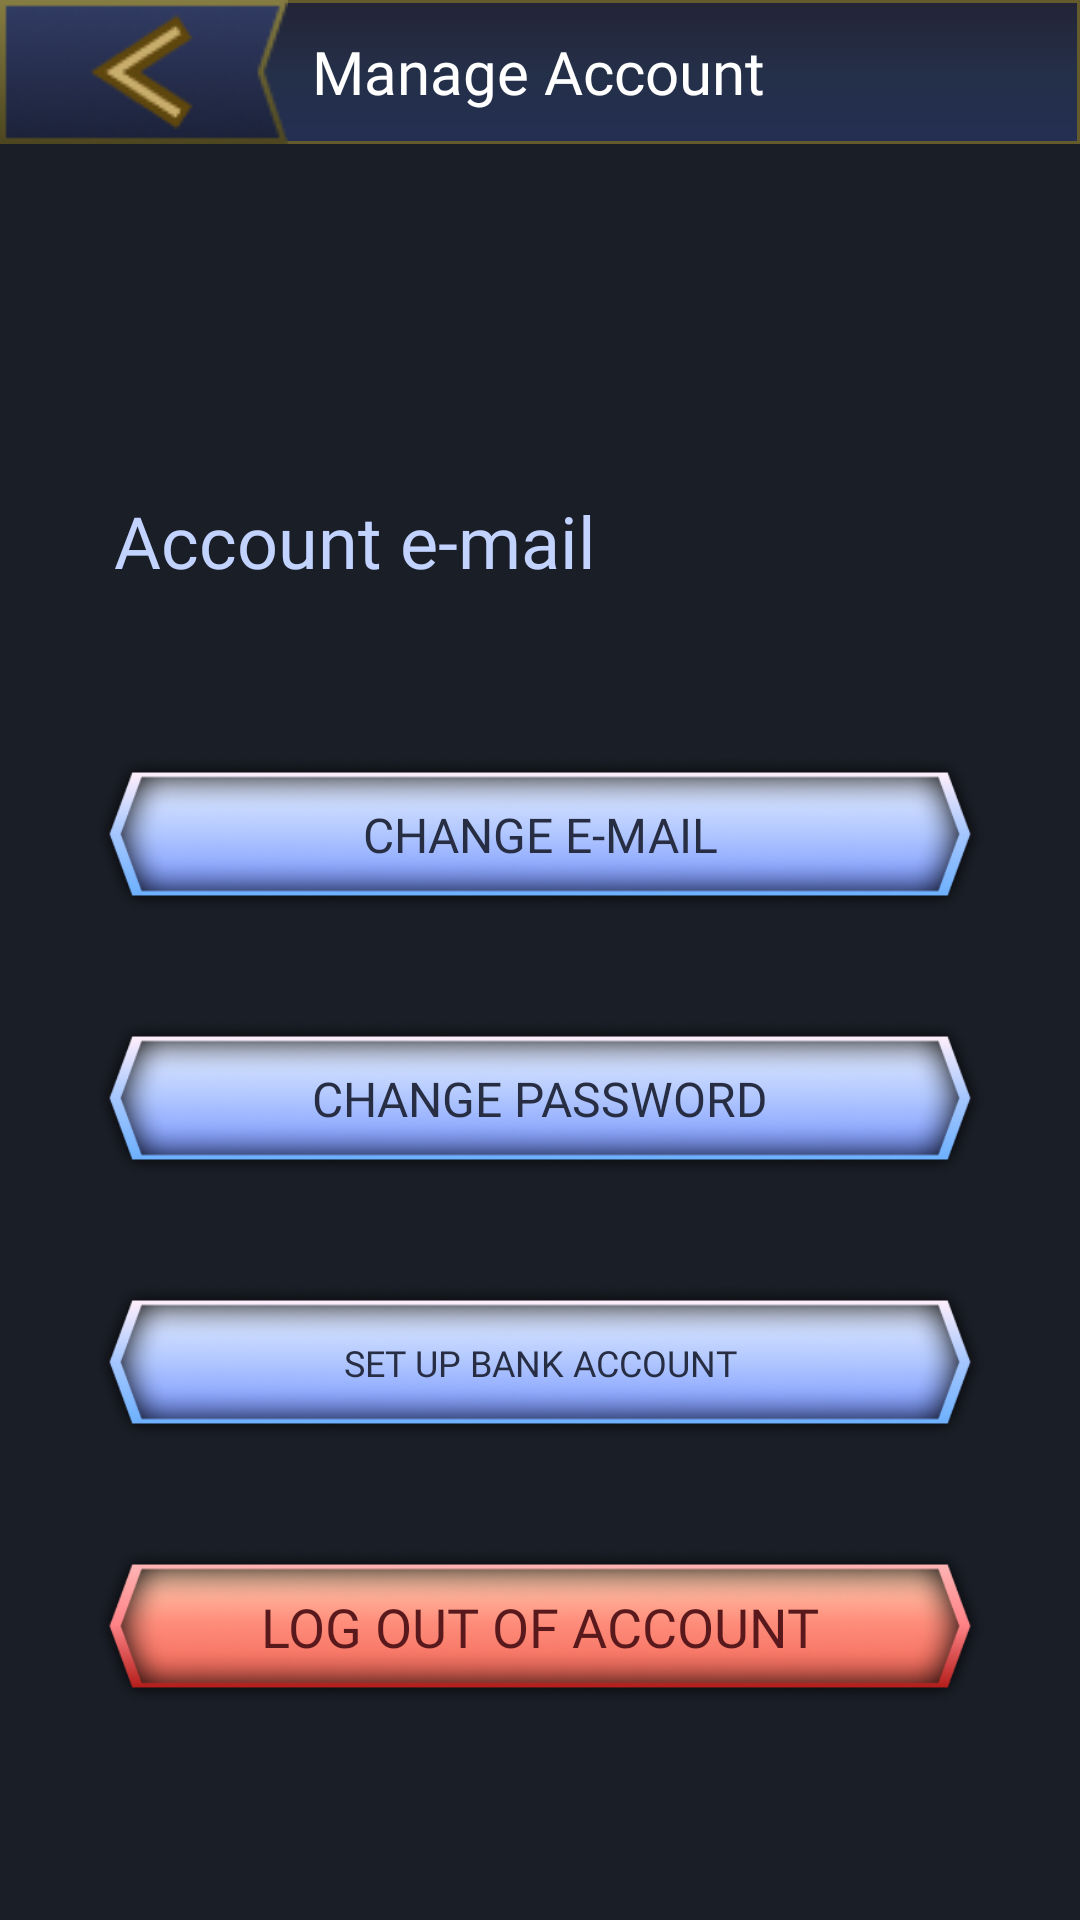

Screen size 1080x1920. Icon name, then its center in pixels as [x,y]:
back: [144,72]
